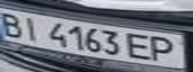1: (63, 24, 84, 51)
3: (100, 27, 124, 57)
4: (42, 19, 69, 47)
6: (81, 25, 103, 54)
B: (0, 9, 27, 38)
E: (124, 30, 157, 61)
I: (18, 15, 45, 42)
P: (145, 34, 187, 63)
